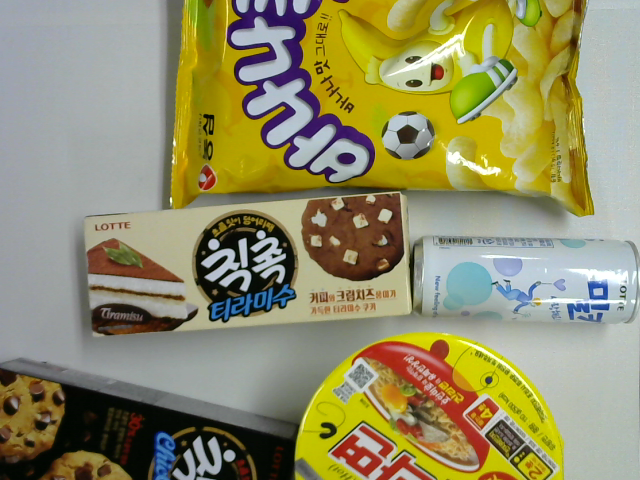Banana_Kick: (166, 1, 595, 220)
Chicchok_Original_2400: (1, 354, 303, 479)
Chicchok_Tiramisu: (81, 185, 416, 344)
Jinlamyeon_Hot_Taste_Large_Cup: (293, 332, 567, 480)
Milkies_250ml: (411, 230, 639, 330)
